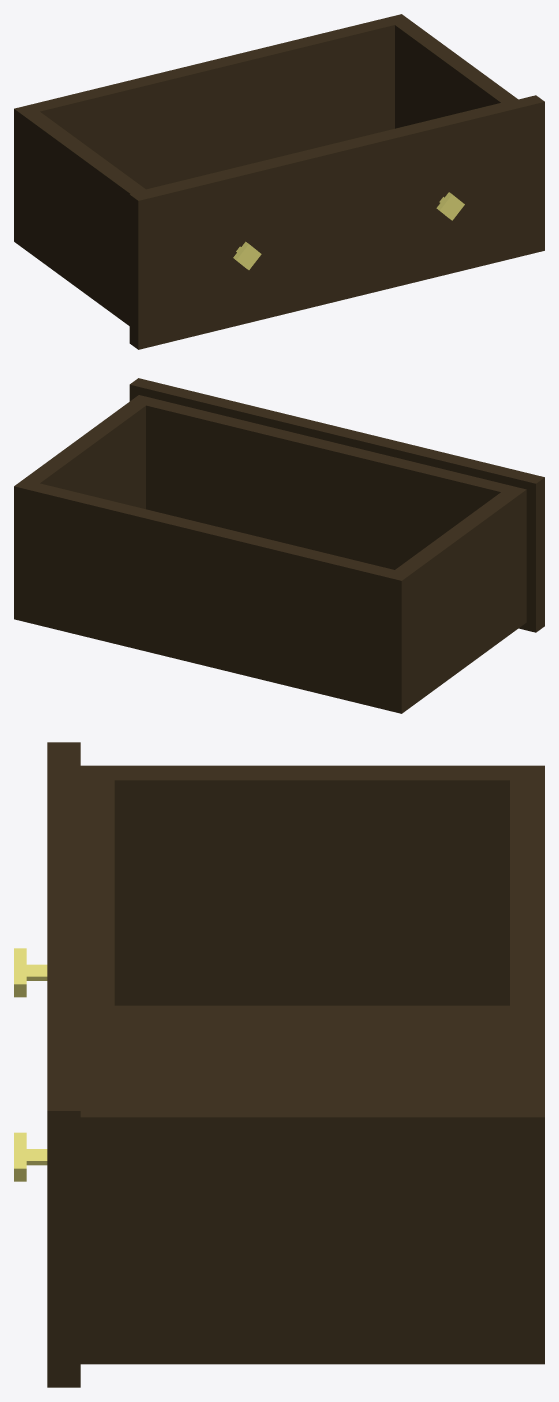
Rendered from Itr_Wardrobe3_Drawer_02.FBX.
3 renders of one model, top to bottom at view 1: azimuth 30°, elevation 25°; view 2: azimuth 150°, elevation 25°; view 3: azimuth 270°, elevation 25°, orthographic. The views are drawn at different scales.
Visible parts, largest first — view 1: Itr_Wardrobe3_Drawer_02; view 2: Itr_Wardrobe3_Drawer_02; view 3: Itr_Wardrobe3_Drawer_02.
Boxes of the visible parts, box(x1,y1,x2,y2) form: Itr_Wardrobe3_Drawer_02: box(14, 14, 544, 349); Itr_Wardrobe3_Drawer_02: box(14, 378, 544, 713); Itr_Wardrobe3_Drawer_02: box(14, 742, 544, 1387).
Size of the model in its own units: 40.83 by 14.3 by 24.85.
